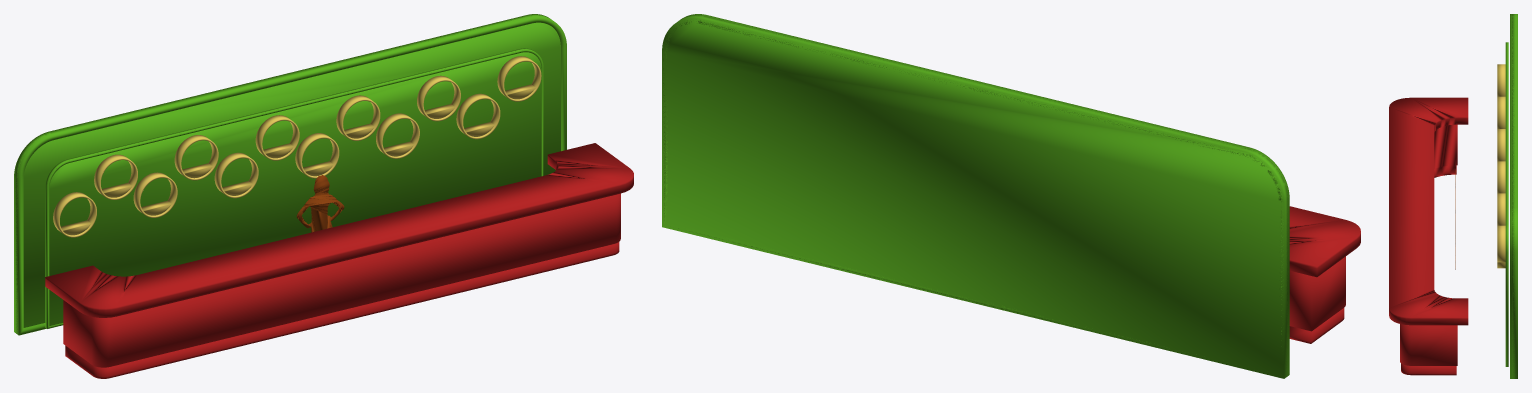
The model's file is Barcounter.obj.
3 views of the same model, side by side, from view 1: azimuth 30°, elevation 25°; view 2: azimuth 150°, elevation 25°; view 3: azimuth 270°, elevation 25° (orthographic). The views are drawn at different scales.
Parts seen in each view (by area): view 1: Shape004, Shape002, Rectangle019, Rectangle025, Rectangle026, Shape003, Shape005, Shape006, Circle037, Circle045, Circle031, Circle043 (+8 smaller); view 2: Rectangle025, Rectangle026, Rectangle019, Shape002, Shape003; view 3: Rectangle019, Shape002, Rectangle025, Rectangle026, Shape004, Shape003, Circle045, Shape005, Circle025, Circle029, Circle033, Circle037 (+1 smaller).
Part boxes in pixels (<box>): Shape004: <box>45,48,541,328</box>; Shape002: <box>63,193,620,367</box>; Rectangle019: <box>45,143,633,317</box>; Rectangle025: <box>14,14,560,333</box>; Rectangle026: <box>14,14,566,335</box>; Shape003: <box>65,242,619,378</box>; Shape005: <box>47,49,543,328</box>; Shape006: <box>296,175,344,232</box>; Circle037: <box>336,95,380,140</box>; Circle045: <box>497,56,541,101</box>; Circle031: <box>214,152,258,198</box>; Circle043: <box>456,93,500,139</box>; Rectangle025: <box>662,15,1288,378</box>; Rectangle026: <box>662,14,1289,378</box>; Rectangle019: <box>1289,206,1360,277</box>; Shape002: <box>1289,256,1345,331</box>; Shape003: <box>1289,308,1344,343</box>; Rectangle019: <box>1389,97,1468,325</box>; Shape002: <box>1400,124,1457,365</box>; Rectangle025: <box>1512,14,1517,378</box>; Rectangle026: <box>1510,14,1517,378</box>; Shape004: <box>1506,42,1508,366</box>; Shape003: <box>1401,165,1456,375</box>; Circle045: <box>1497,225,1505,262</box>; Shape005: <box>1505,42,1505,366</box>; Circle025: <box>1497,64,1505,96</box>; Circle029: <box>1497,96,1505,128</box>; Circle033: <box>1497,129,1505,161</box>; Circle037: <box>1497,161,1505,193</box>.
Bounding box in the file's own units: 361 × 120 × 89.12.
